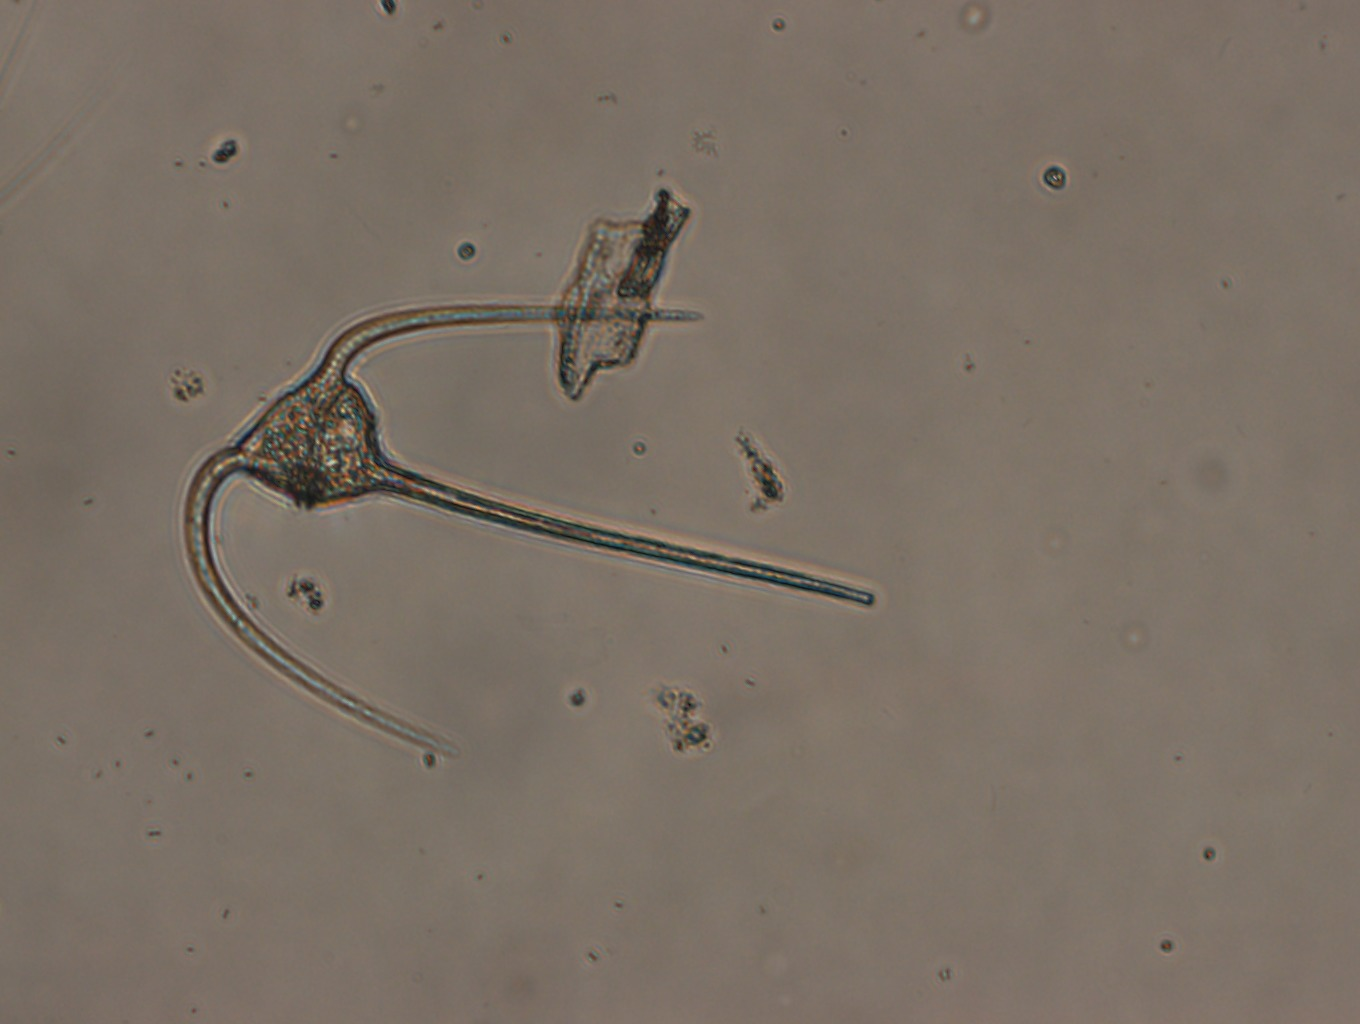ceratium trichoceros: (181, 301, 876, 756)
